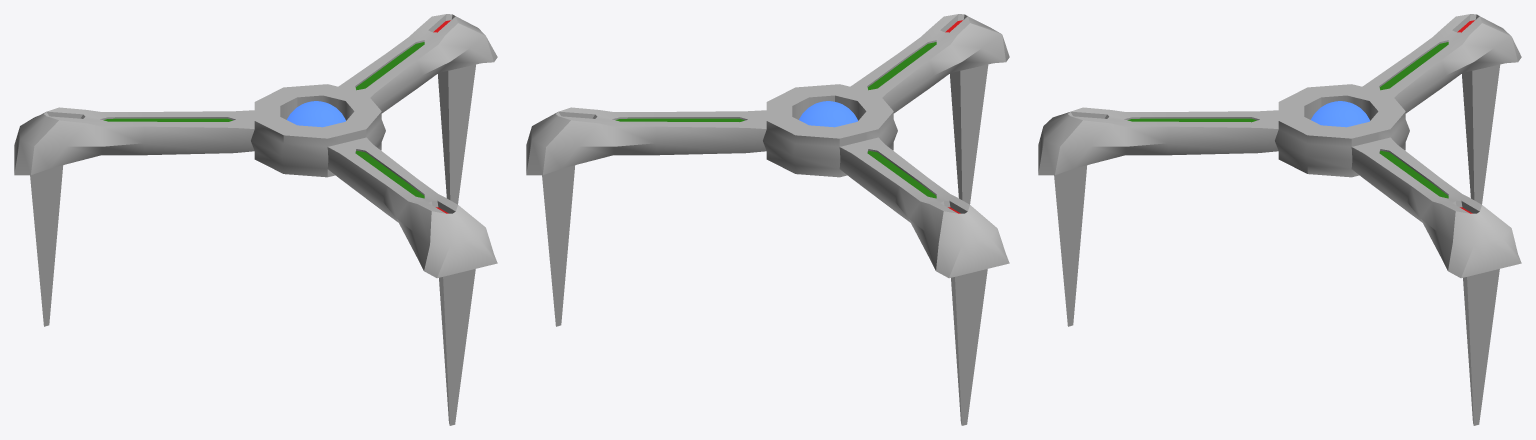
File: hub.fbx
The picture shows the model from 3 angles, left to right: view 1: azimuth 30°, elevation 25°; view 2: azimuth 150°, elevation 25°; view 3: azimuth 270°, elevation 25°; orthographic projection.
Visible parts, largest first — view 1: Cylinder, Cylinder.001; view 2: Cylinder, Cylinder.001; view 3: Cylinder, Cylinder.001.
Boxes of the visible parts, left/top/right/bottom form: Cylinder: left=14, top=14, right=497, bottom=425; Cylinder.001: left=287, top=101, right=345, bottom=127; Cylinder: left=526, top=14, right=1009, bottom=425; Cylinder.001: left=799, top=101, right=857, bottom=127; Cylinder: left=1038, top=14, right=1521, bottom=425; Cylinder.001: left=1311, top=101, right=1369, bottom=127.
Size of the model in its own units: 853 by 373 by 738.
